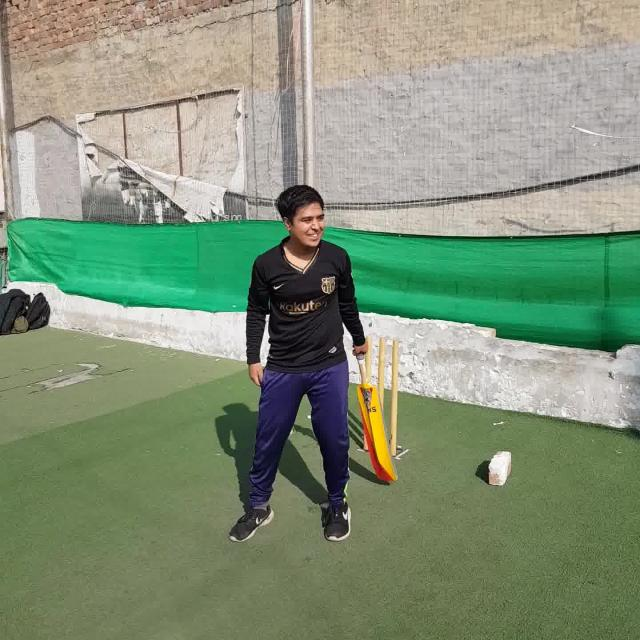bat: (357, 353, 400, 480)
